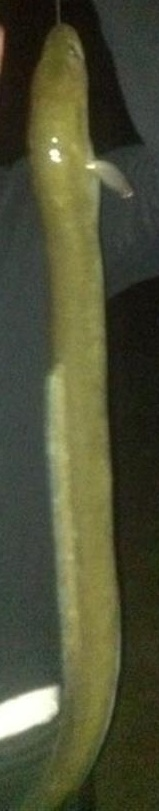Anguilla anguilla: (20, 20, 139, 811)
